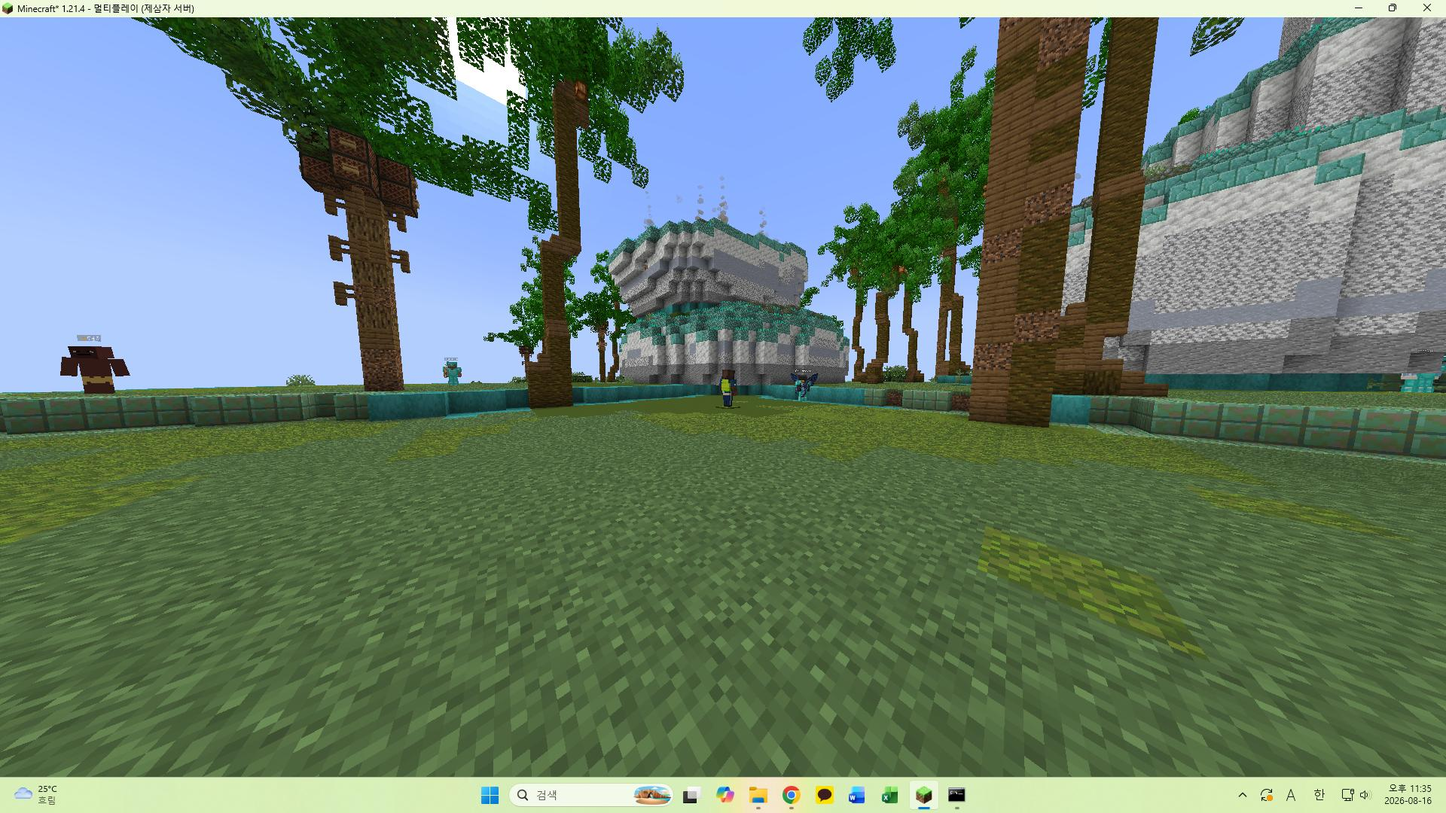Guardian: (720, 368, 737, 408)
